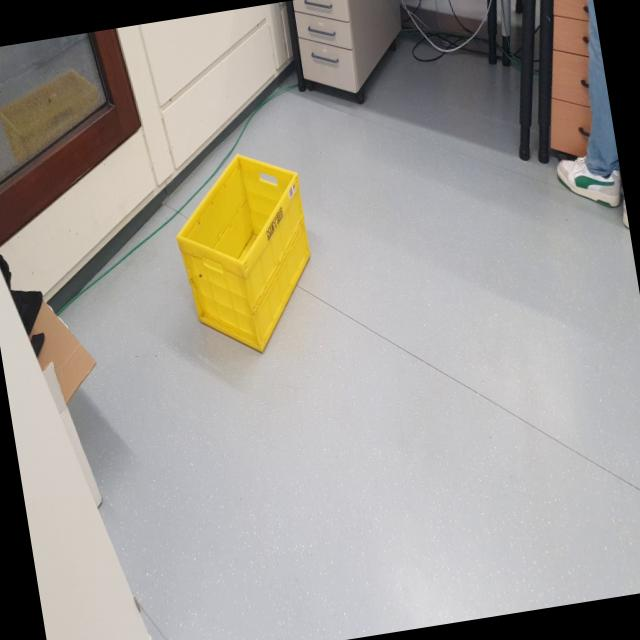box: (160, 128, 333, 376)
